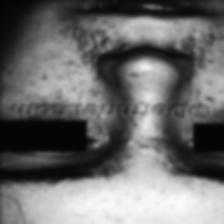Unclassified: (53, 24, 224, 102), (110, 120, 179, 166)
